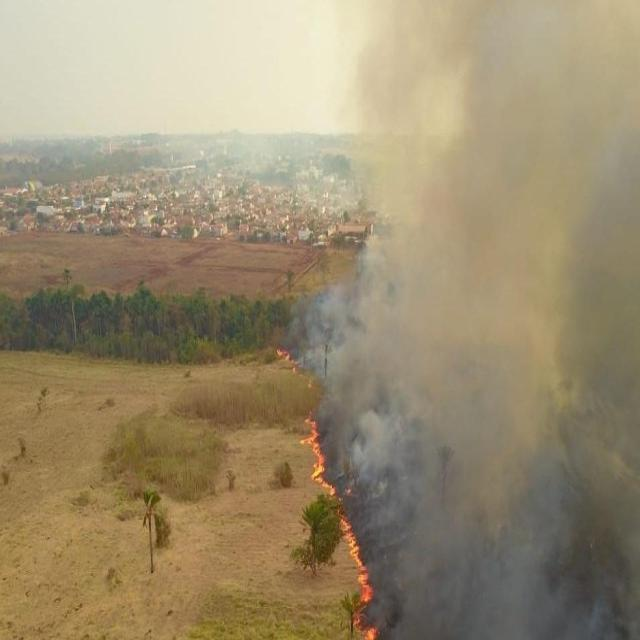Fire: (328, 483, 364, 564), (352, 563, 378, 640), (304, 414, 328, 487), (276, 346, 300, 374)
Smoke: (348, 0, 640, 640), (292, 278, 348, 418)
